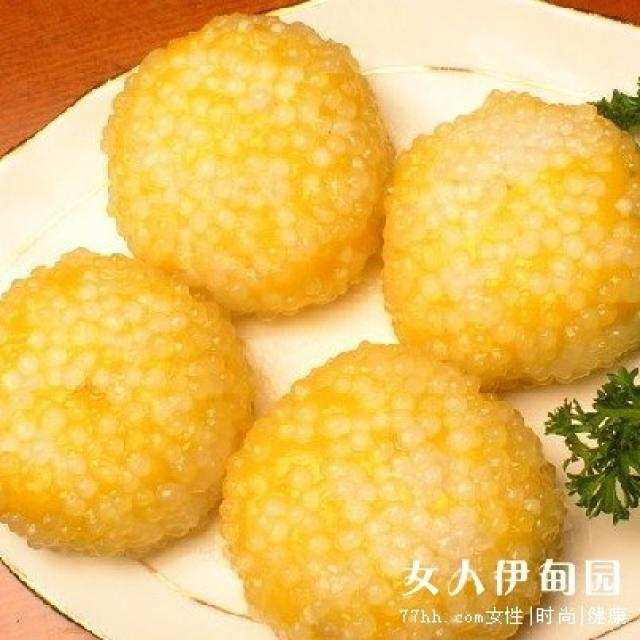炸货点心: (11, 32, 634, 606)
蛋糕甜品: (11, 32, 634, 606)
